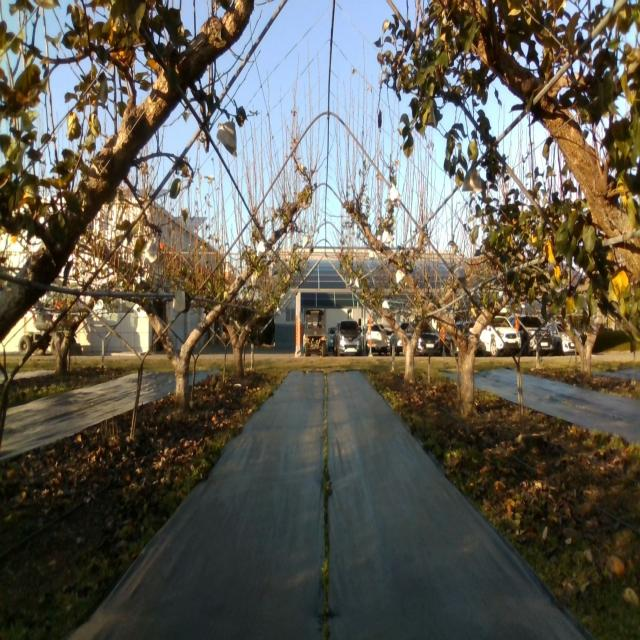pearbags: (216, 116, 236, 156), (143, 234, 159, 268), (462, 168, 482, 193)
